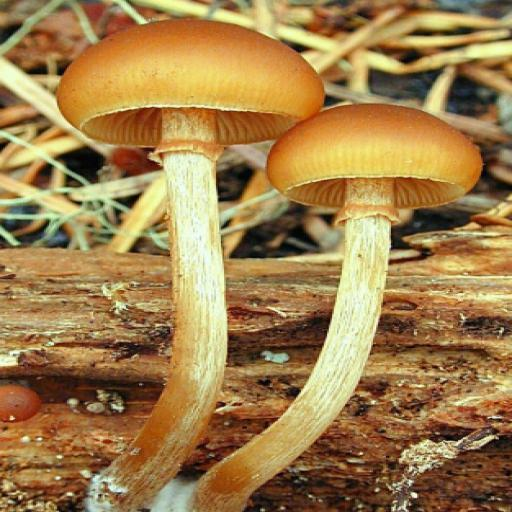mushroom: (50, 9, 482, 364)
